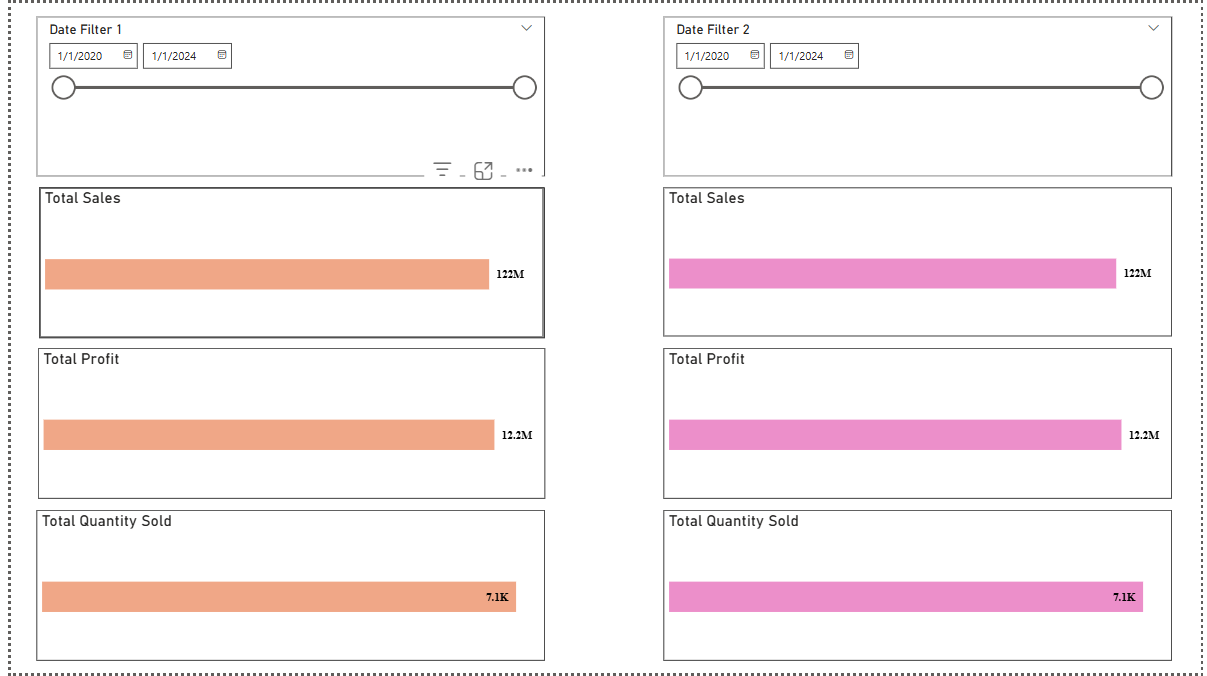

This screenshot's page, from the dashboard's own definition file:
{"tool":"powerbi","page":{"name":"Edit Interactions","canvas":[1280,720],"ordinal":3},"visuals":[{"type":"slicer","fields":{"Values":["Fact Table.Date (dd/mm/yyyy)"]},"box":[26.7,15,546.7,171.7],"z":0},{"type":"slicer","fields":{"Values":["Fact Table.Date (dd/mm/yyyy)"]},"box":[701.7,15,546.7,171.7],"z":1000},{"type":"barChart","title":"Total Sales","fields":{"Y":["Sum(Fact Table.Net Sales)"]},"box":[30,198.3,543.3,161.7],"z":2000},{"type":"barChart","title":"Total Profit","fields":{"Y":["Sum(Fact Table.Profit)"]},"box":[28.3,371.7,545,161.7],"z":3000},{"type":"barChart","title":"Total Quantity Sold","fields":{"Y":["Sum(Fact Table.Units Sold)"]},"box":[26.7,545,546.7,161.7],"z":4000},{"type":"barChart","title":"Total Sales","fields":{"Y":["Sum(Fact Table.Net Sales)"]},"box":[701.7,198.9,546.7,160],"z":5000},{"type":"barChart","title":"Total Profit","fields":{"Y":["Sum(Fact Table.Profit)"]},"box":[701.7,371.1,546.7,161.7],"z":6000},{"type":"barChart","title":"Total Quantity Sold","fields":{"Y":["Sum(Fact Table.Units Sold)"]},"box":[701.7,545,546.7,161.7],"z":7000}]}

Visuals, with their boxes in screenshot pixels (x1, y1, x2, y2), scaled from the page's 1280x720 canvas onto the 1207x676 screenshot:
slicer - Fact Table.Date (dd/mm/yyyy): bbox=(25, 14, 541, 175)
slicer - Fact Table.Date (dd/mm/yyyy): bbox=(662, 14, 1177, 175)
"Total Sales" barChart: bbox=(28, 186, 541, 338)
"Total Profit" barChart: bbox=(27, 349, 541, 501)
"Total Quantity Sold" barChart: bbox=(25, 512, 541, 664)
"Total Sales" barChart: bbox=(662, 187, 1177, 337)
"Total Profit" barChart: bbox=(662, 348, 1177, 500)
"Total Quantity Sold" barChart: bbox=(662, 512, 1177, 664)
